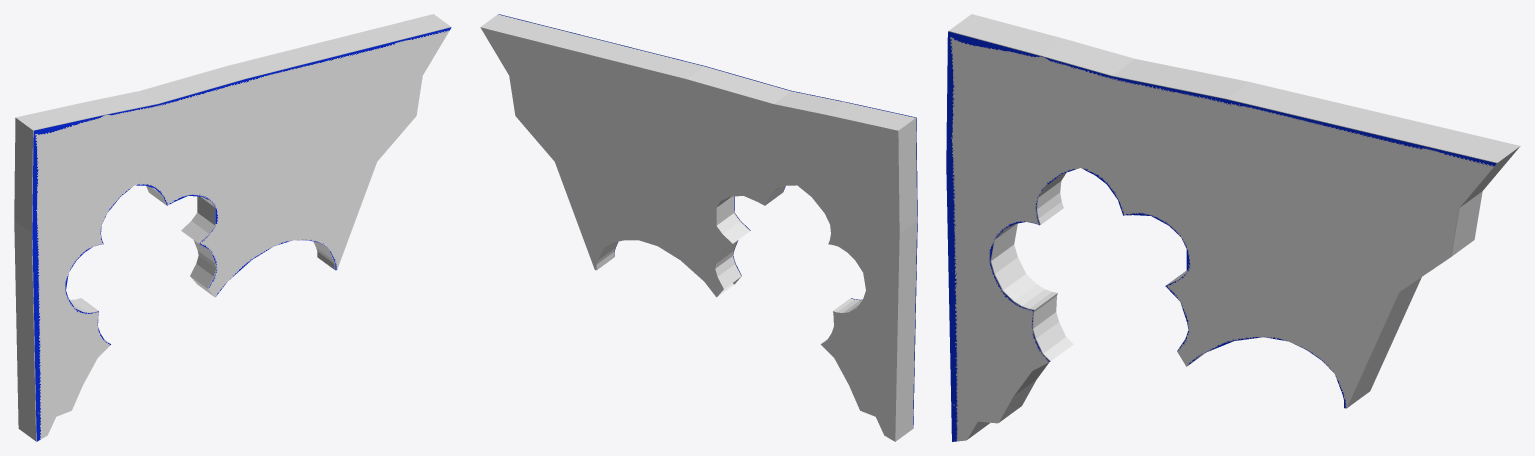
3 renders of one model, left to right at view 1: azimuth 30°, elevation 25°; view 2: azimuth 150°, elevation 25°; view 3: azimuth 330°, elevation 25°, orthographic. The views are drawn at different scales.
Parts seen in each view (by area): view 1: Out_1_1, Out_1_0; view 2: Out_1_0, Out_1_1; view 3: Out_1_1, Out_1_0.
Boxes of the visible parts, left/top/right/bottom form: Out_1_1: left=32, top=27, right=451, bottom=441; Out_1_0: left=14, top=14, right=450, bottom=441; Out_1_0: left=480, top=14, right=917, bottom=441; Out_1_1: left=498, top=14, right=917, bottom=428; Out_1_1: left=946, top=31, right=1496, bottom=441; Out_1_0: left=948, top=14, right=1520, bottom=439.
Bounding box in the file's own units: 6.88 × 4.92 × 0.515.
3 materials, 1 textured.
